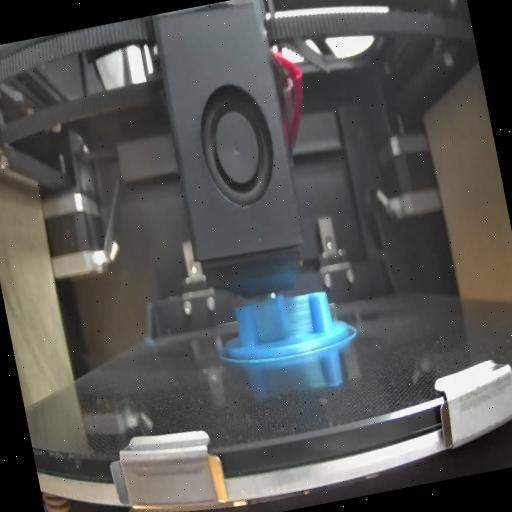stringing: (253, 290, 315, 342)
